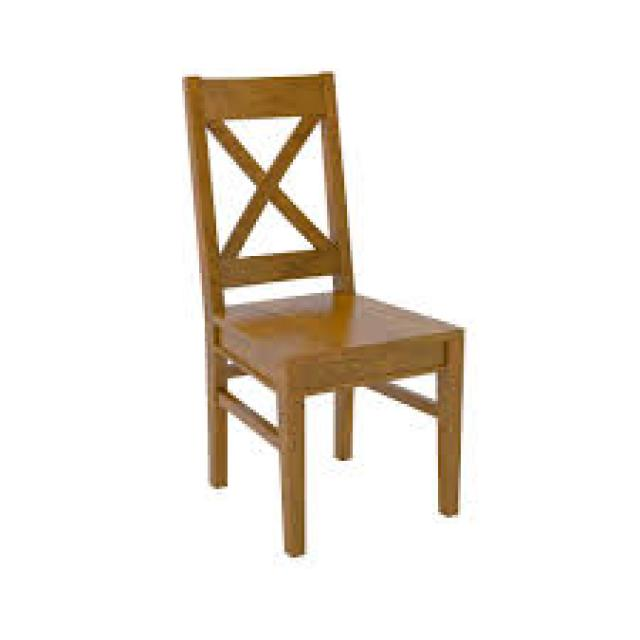chair: (148, 55, 538, 640)
